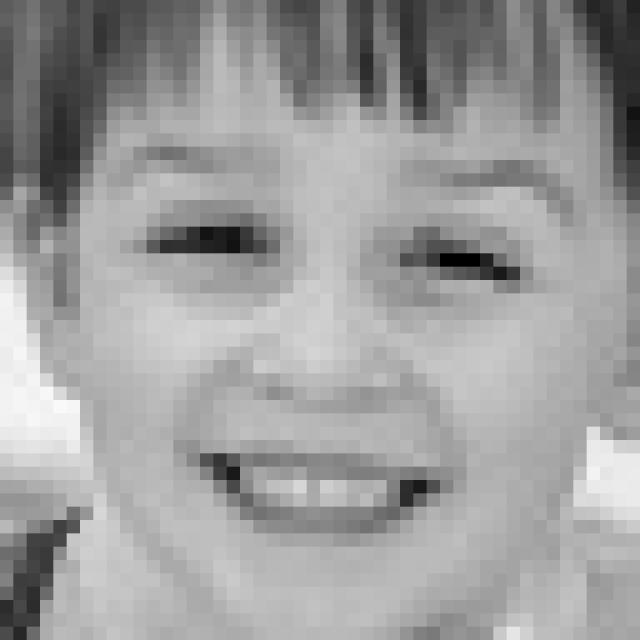happy: (109, 139, 584, 549)
